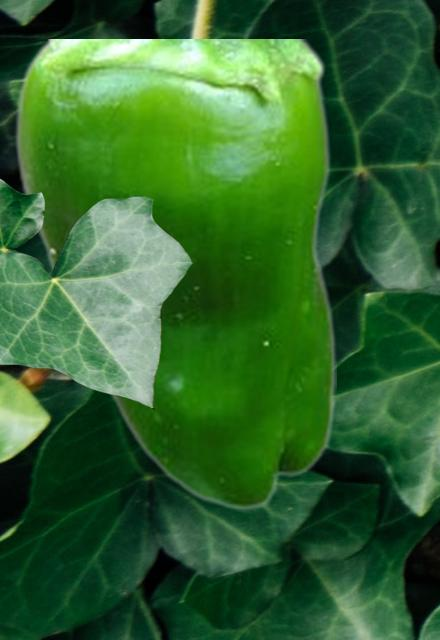green_chili: (13, 39, 335, 510)
